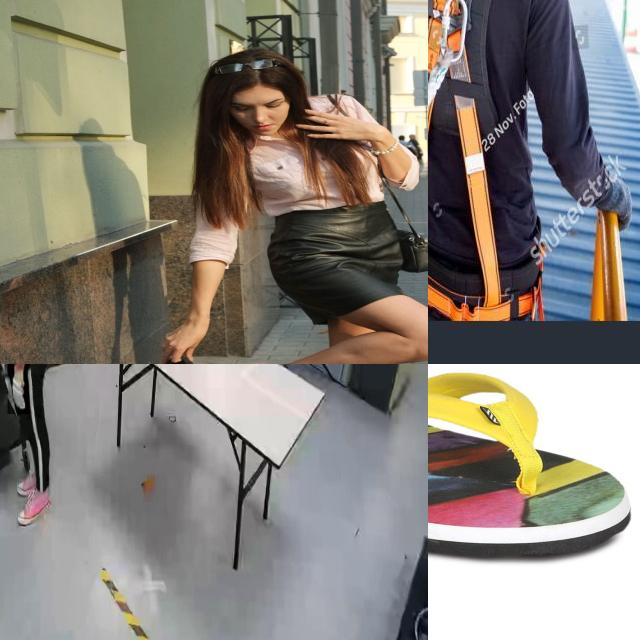Harness: (428, 0, 533, 322)
Sandals: (428, 365, 633, 564)
hand_glove: (7, 364, 30, 415)
person: (0, 364, 58, 536)
shoes: (18, 485, 53, 526)
